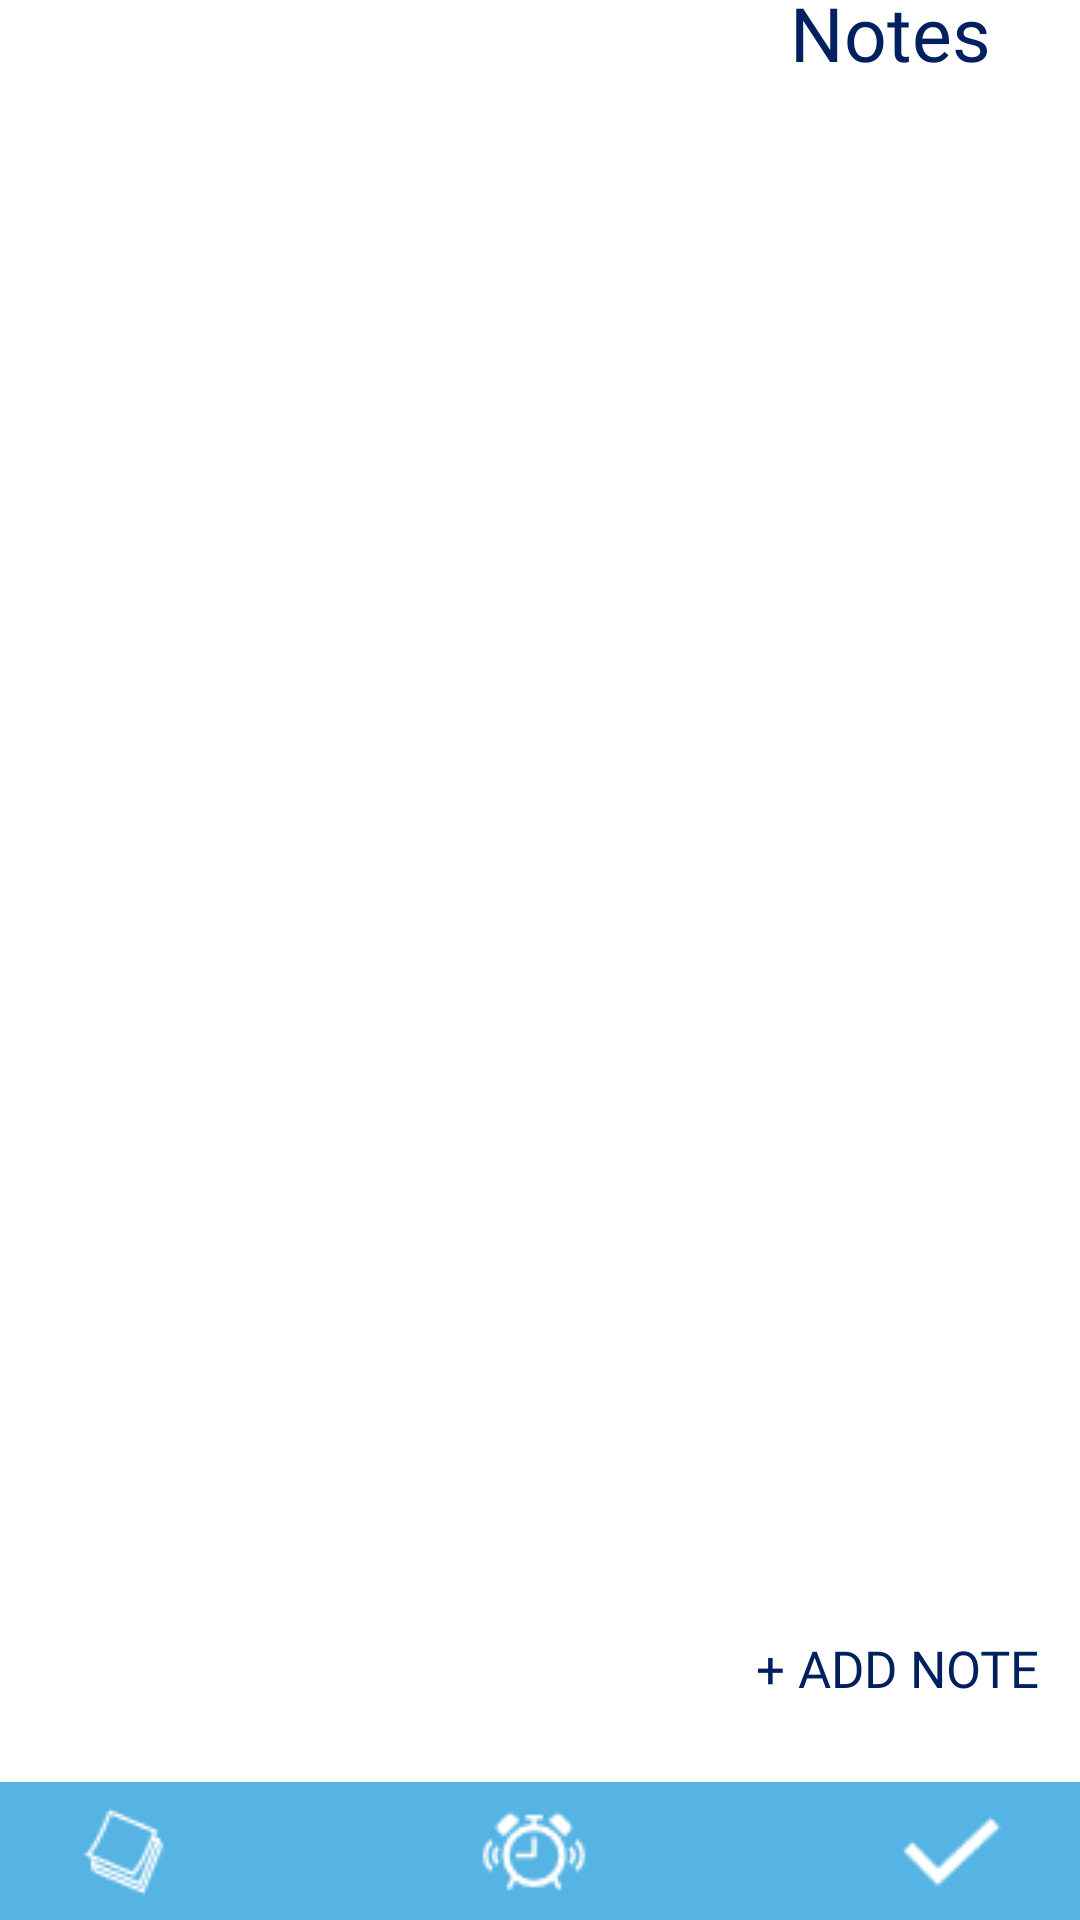

Named icons in this screenshot (1080w x 1920h) and their bounding boxes, (x1=x1, y1=y1, x2=x2, y2=y2):
alarms: (x1=482, y1=1812, x2=586, y2=1891)
